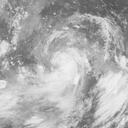cyclone: (43, 47, 88, 92)
